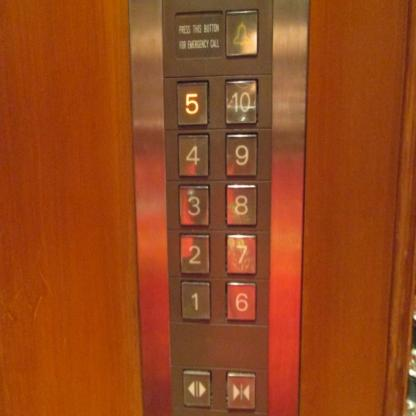1: (179, 280, 212, 322)
10: (223, 76, 258, 126)
2: (177, 231, 211, 275)
3: (176, 182, 211, 226)
4: (176, 132, 210, 177)
5: (175, 77, 210, 127)
6: (226, 281, 257, 322)
7: (224, 230, 257, 275)
8: (224, 181, 259, 226)
9: (224, 131, 259, 177)
alarm: (224, 10, 258, 56)
close: (226, 372, 256, 410)
open: (179, 366, 212, 408)
